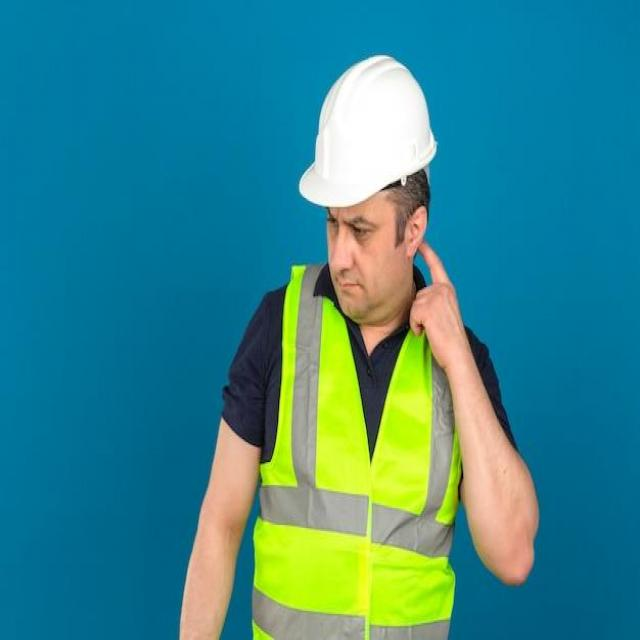Reflective-Jacket: (246, 269, 467, 637)
Safety-Helmet: (297, 51, 438, 215)
